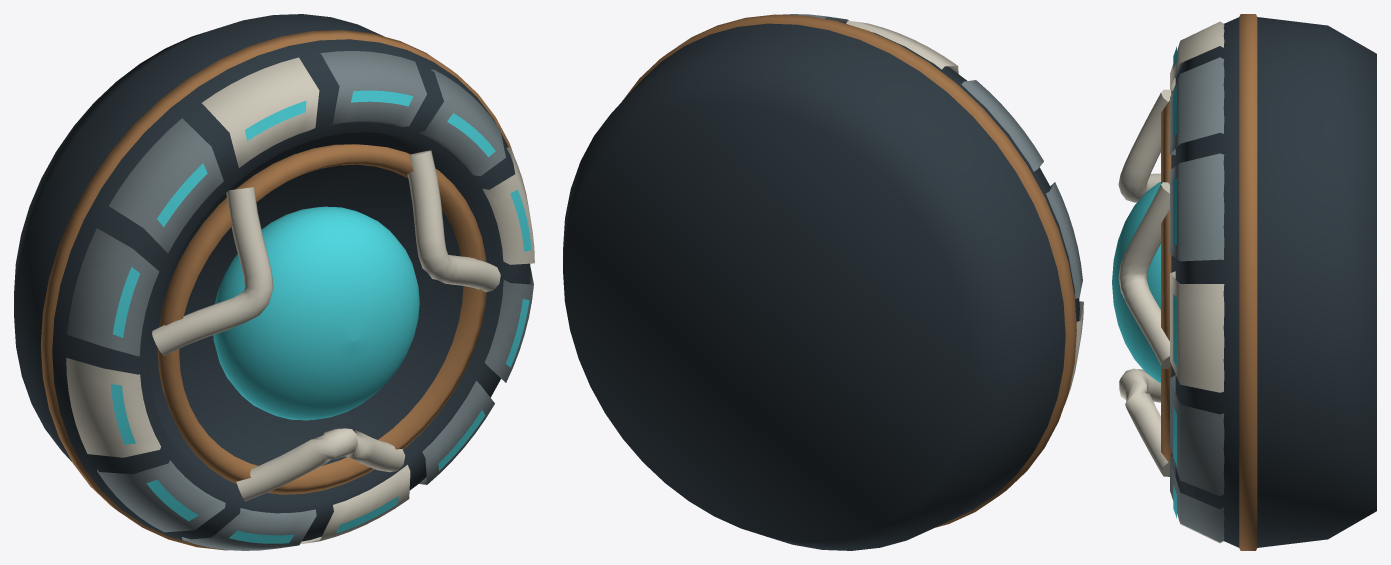
The model's file is boss_core.glb.
The picture shows the model from 3 angles, left to right: view 1: azimuth 30°, elevation 25°; view 2: azimuth 150°, elevation 25°; view 3: azimuth 270°, elevation 25°; orthographic projection. The views are drawn at different scales.
Parts seen in each view (by area): view 1: boss_core; view 2: boss_core; view 3: boss_core.
Part boxes in pixels (box(x1,y1,x2,y2)): boss_core: box(14, 14, 534, 550); boss_core: box(563, 14, 1083, 550); boss_core: box(1112, 14, 1376, 550).
Bounding box in the file's own units: 2.09 × 2.09 × 1.03.
